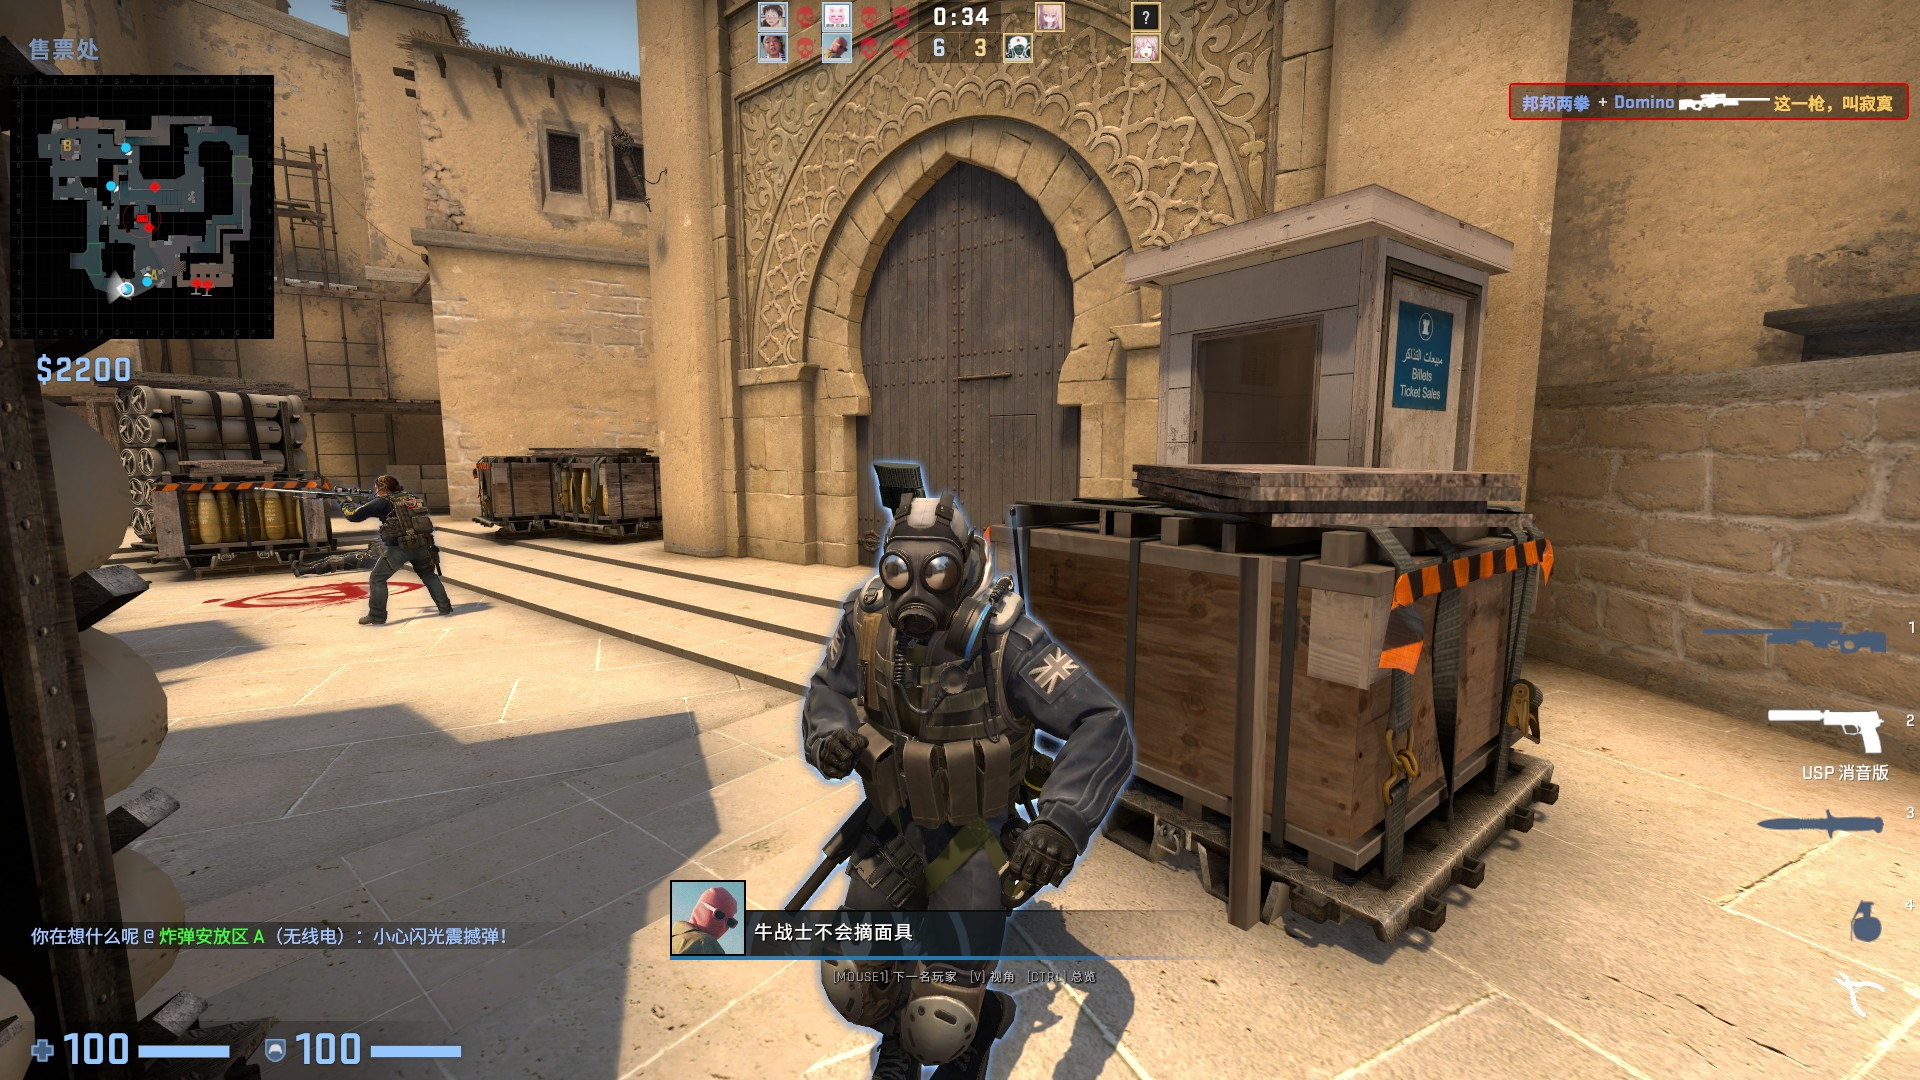head: (879, 494, 972, 636), (369, 473, 405, 499)
